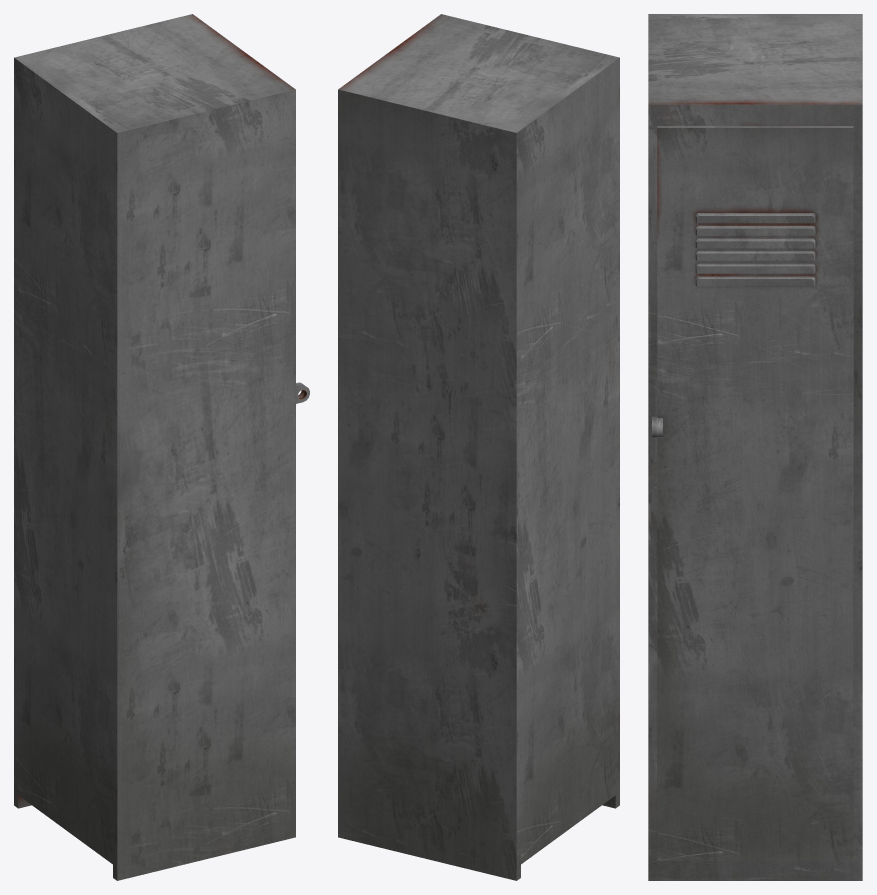
Rendered from old_metal_wardrobe_gameready.glb.
The picture shows the model from 3 angles, left to right: view 1: azimuth 30°, elevation 25°; view 2: azimuth 150°, elevation 25°; view 3: azimuth 270°, elevation 25°; orthographic projection. The views are drawn at different scales.
Visible parts, largest first — view 1: Shkaf; view 2: Shkaf; view 3: DvercaShkafa, Shkaf.
Boxes of the visible parts, x1,y1,x2,y2 form: Shkaf: (14,14,309,880); Shkaf: (338,14,619,880); DvercaShkafa: (657,126,853,860); Shkaf: (648,14,862,880).
Bounding box in the file's own units: 2.18 × 8 × 2.
2 materials, 2 textured.
